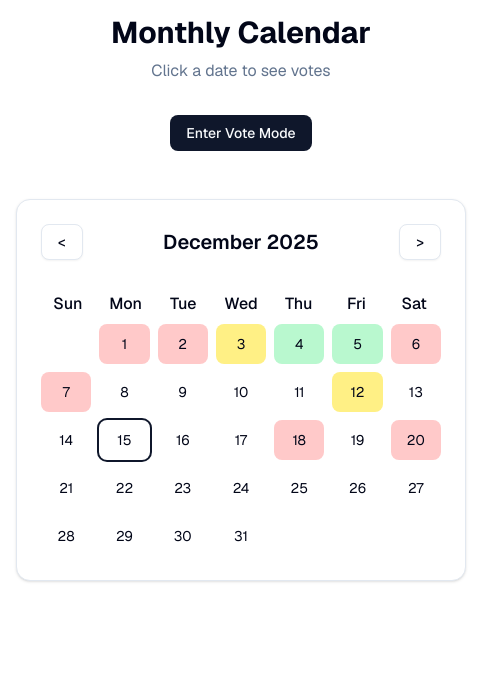
Test: CalendarPage › toggles Vote Mode and displays/hides VotePalette
// Enter Vote Mode
Step 1. Click the button "Enter Vote Mode" → [241, 133], box [170,115,312,151]
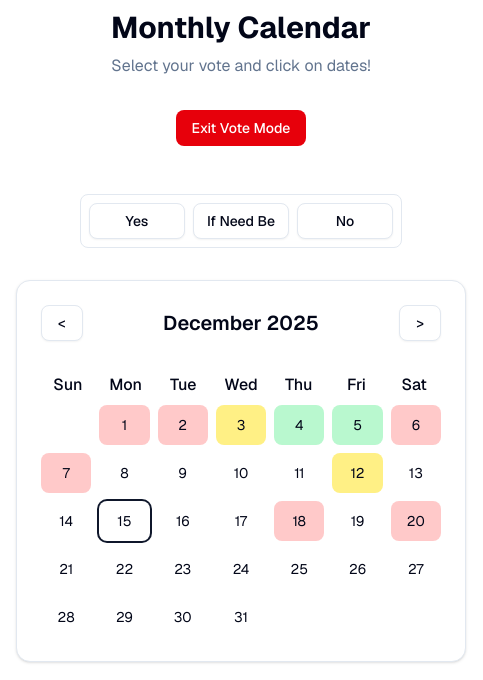
expect the button "Exit Vote Mode" is shown: met
expect the button "Enter Vote Mode" is gone: met
expect the button "Yes" is shown: met, box [89,203,185,239]
// Exit Vote Mode
Step 2. Click the button "Exit Vote Mode" → [241, 128], box [176,110,306,146]
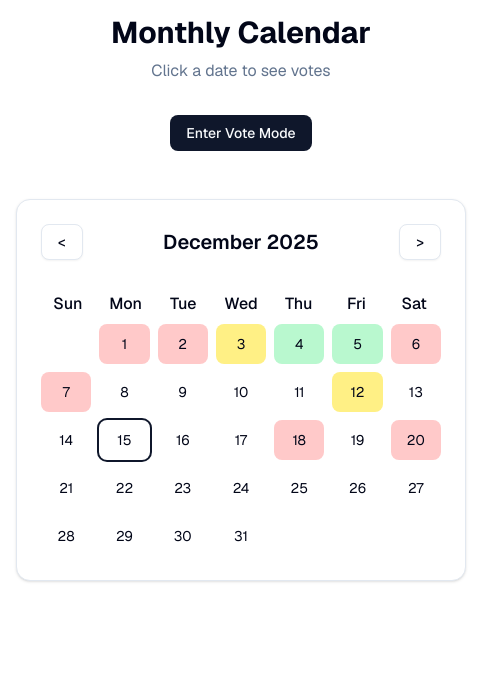
expect the button "Enter Vote Mode" is shown: met, box [170,115,312,151]
expect the button "Exit Vote Mode" is gone: met
expect the button "Yes" is gone: met
